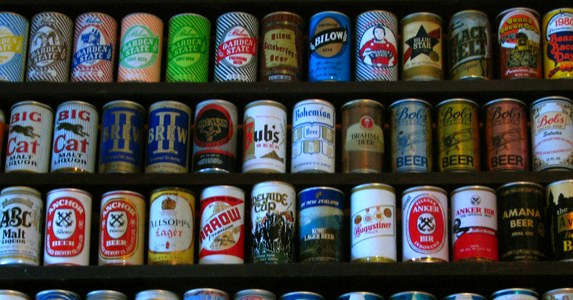beer can: (245, 180, 299, 272), (145, 183, 198, 272), (197, 183, 248, 270), (481, 98, 535, 180), (499, 182, 551, 266), (347, 182, 399, 265), (92, 188, 145, 269), (494, 5, 546, 87), (337, 100, 388, 183), (451, 187, 501, 269), (431, 99, 482, 179), (45, 188, 94, 271), (298, 184, 348, 265), (400, 187, 453, 263), (6, 98, 55, 177), (193, 99, 240, 179), (287, 100, 337, 175), (143, 103, 195, 175), (1, 185, 46, 268), (51, 95, 97, 176), (118, 8, 164, 86), (98, 99, 143, 178), (241, 100, 287, 177), (213, 9, 259, 85), (447, 10, 493, 86), (307, 11, 354, 83), (166, 9, 211, 84), (355, 11, 400, 86), (399, 11, 445, 84), (527, 97, 573, 169), (389, 100, 432, 176), (72, 11, 117, 83), (262, 15, 303, 85), (27, 15, 70, 79), (542, 10, 573, 82)
